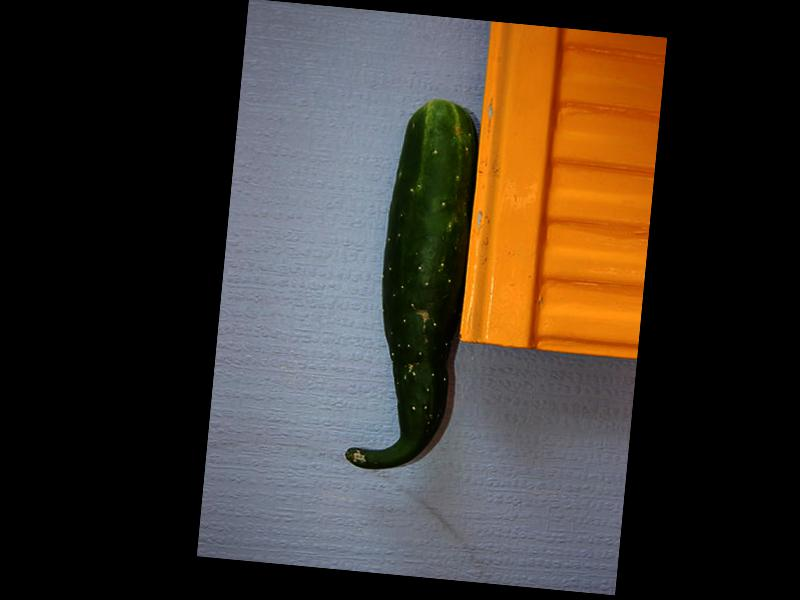Cucumber: (343, 96, 482, 477)
